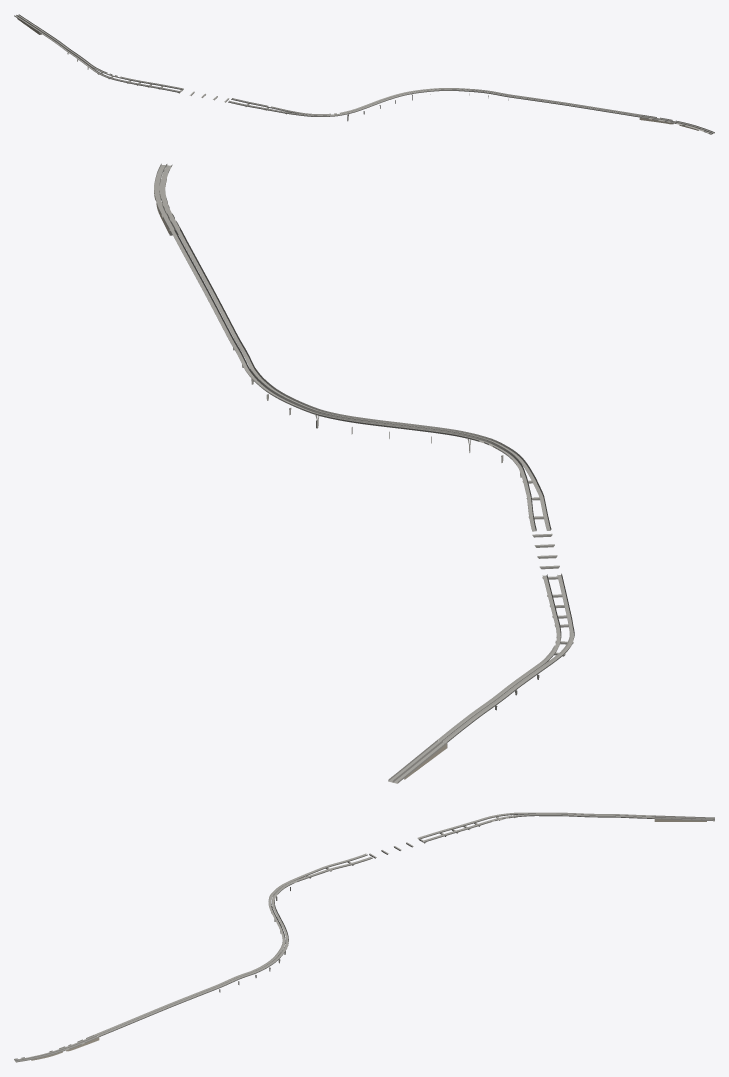
Rendered from br_t127_davies_1_lod1.gltf.
3 views of the same model, one above another, from view 1: azimuth 30°, elevation 25°; view 2: azimuth 150°, elevation 25°; view 3: azimuth 270°, elevation 25° (orthographic). The views are drawn at different scales.
Parts seen in each view (by area): view 1: br_t127_davies_1_lod1; view 2: br_t127_davies_1_lod1; view 3: br_t127_davies_1_lod1.
Boxes of the visible parts, x1,y1,x2,y2 form: br_t127_davies_1_lod1: (14, 14, 714, 134); br_t127_davies_1_lod1: (154, 163, 574, 783); br_t127_davies_1_lod1: (14, 812, 714, 1062).
Size of the model in its own units: 840 by 22.33 by 1036.
